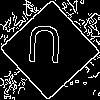U: (25, 25, 63, 73)
